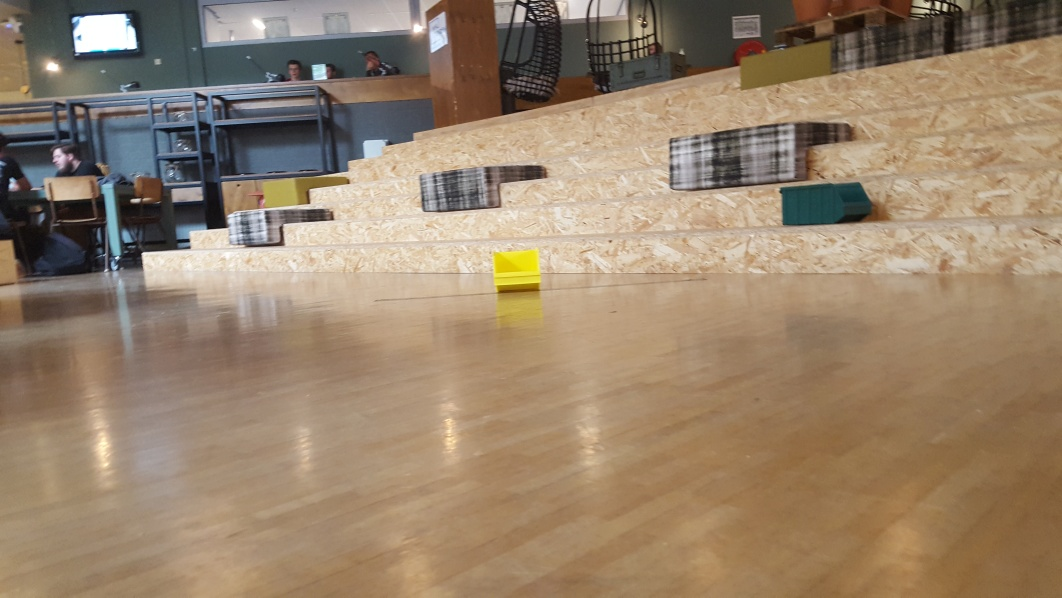tray: (768, 180, 882, 223), (490, 246, 543, 296)
